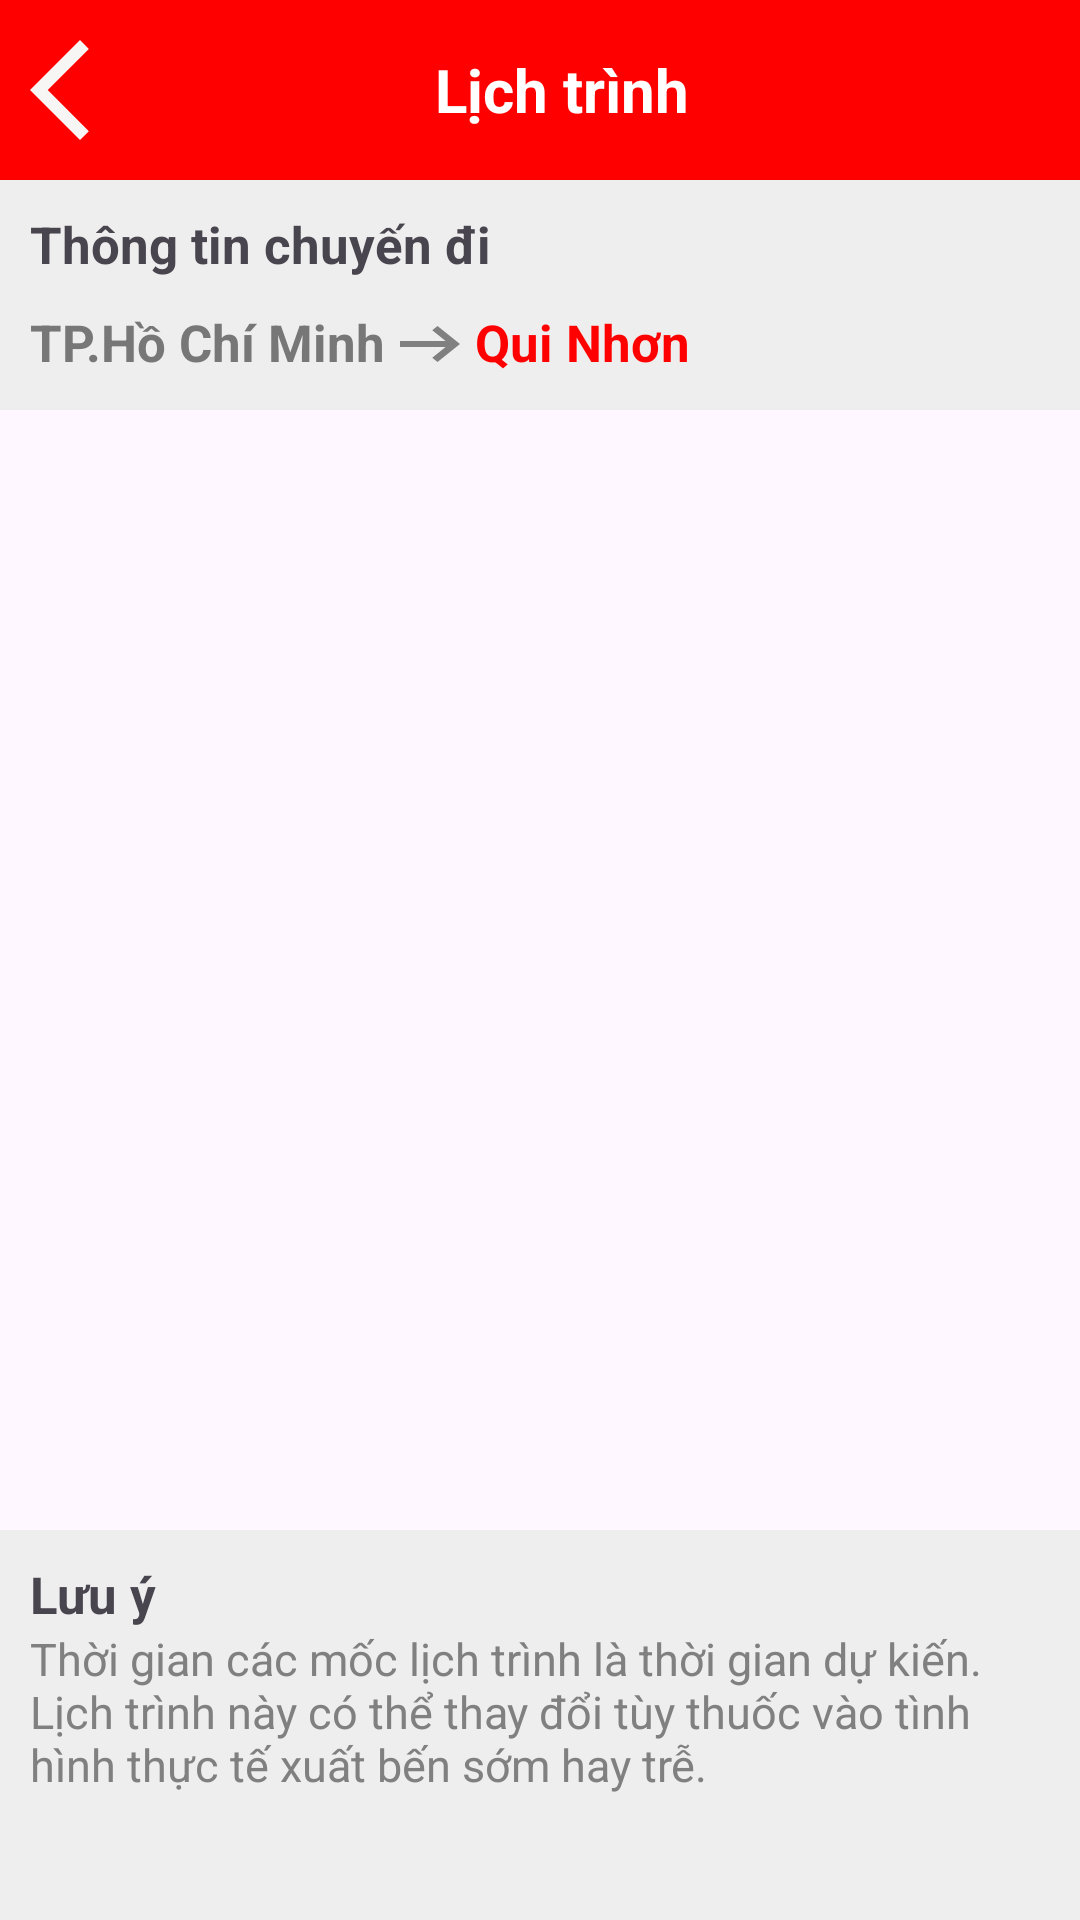

Named icons in this screenshot (1080×1920) and their bounding boxes, region(x1, y1, x2, y2):
back: region(30, 40, 89, 140)
huongdi: region(400, 326, 460, 362)
